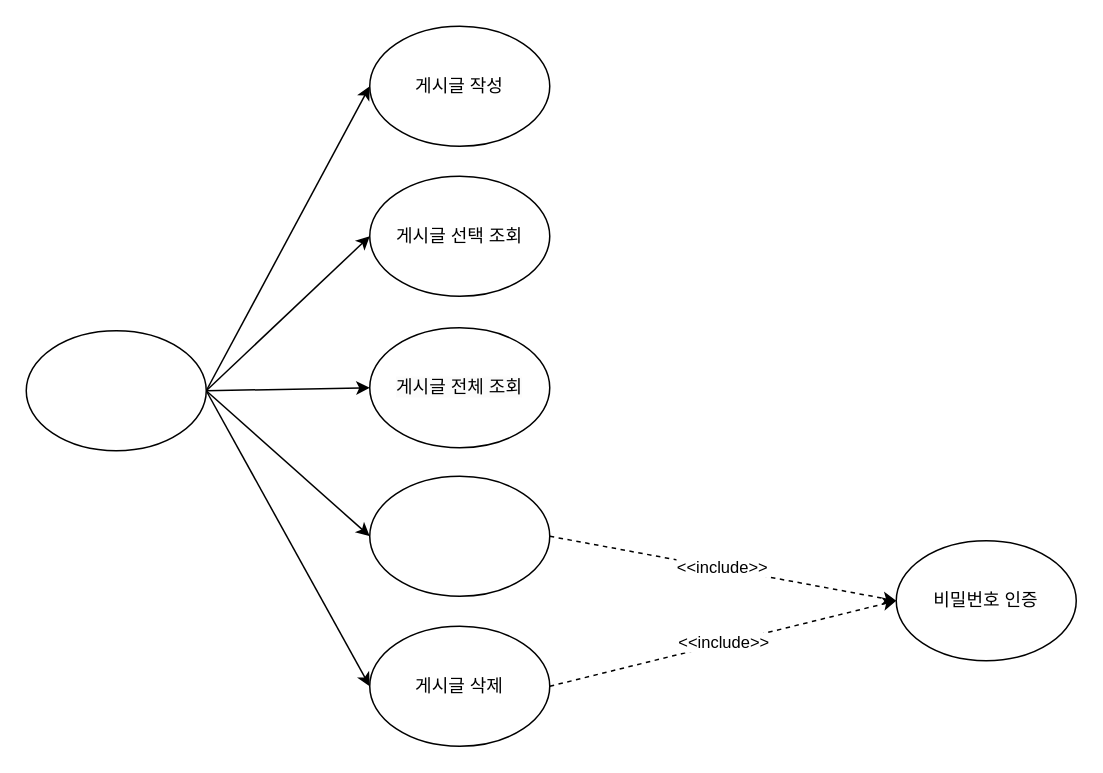
The diagram is 1103 pixels wide and 773 high, and some of its shapes have lost their labels. Here are the shapes that lost their labels. From the top down, the centre of each, then its label:
(115,390): 클라이언트
(459,535): 게시글 수정
